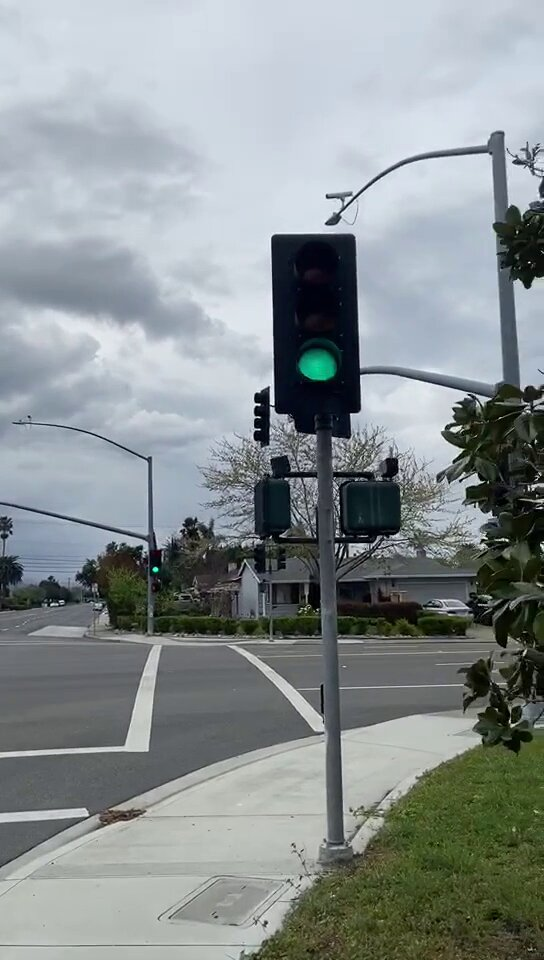green_light: (278, 237, 355, 406), (150, 547, 160, 576)
